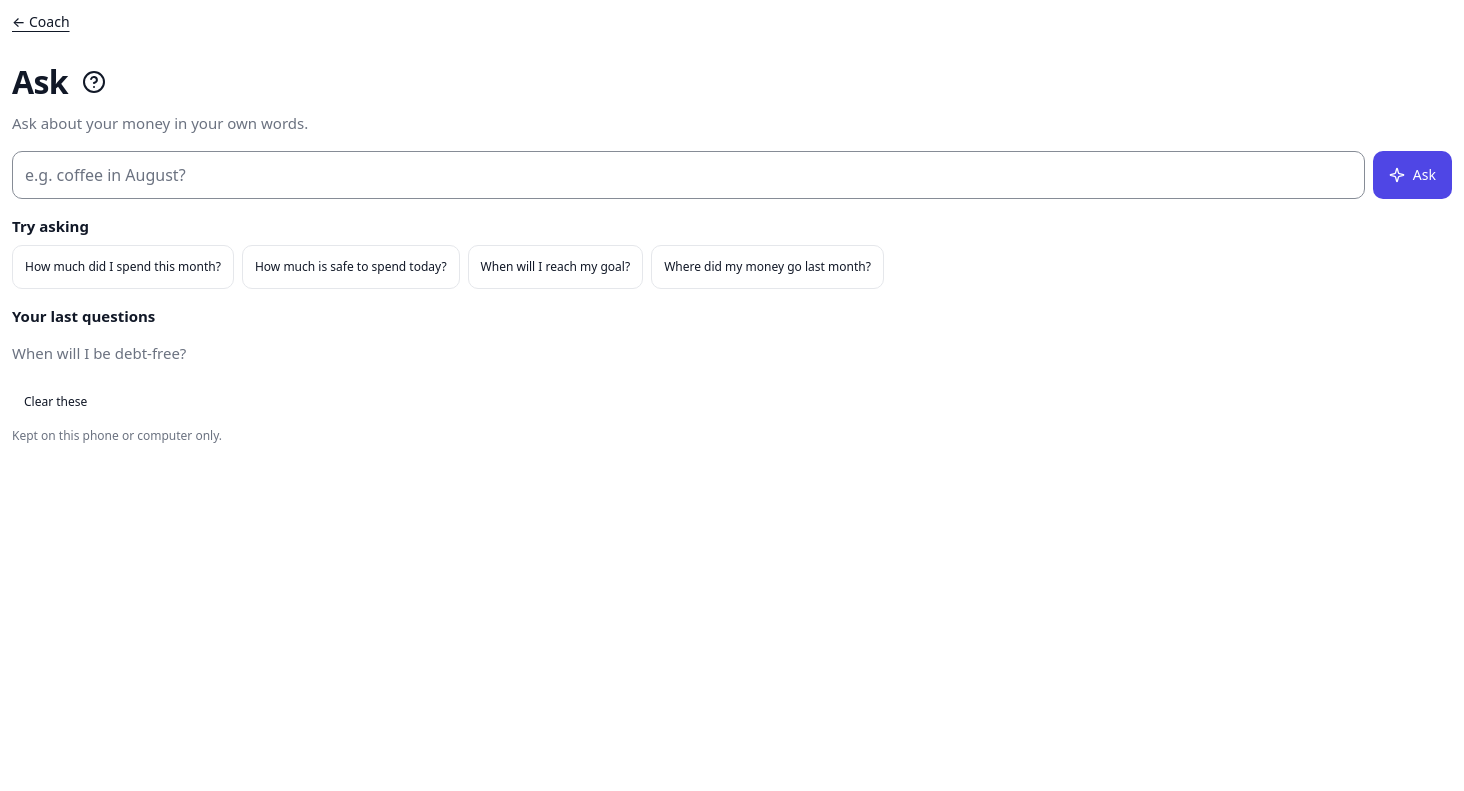
Test case: Ask fails soft › says the forecast needs a one-time update when its reads are missing, and still answers the rest
Click the button "How much is safe to spend today?" at (351, 267), box [242,245,460,289]
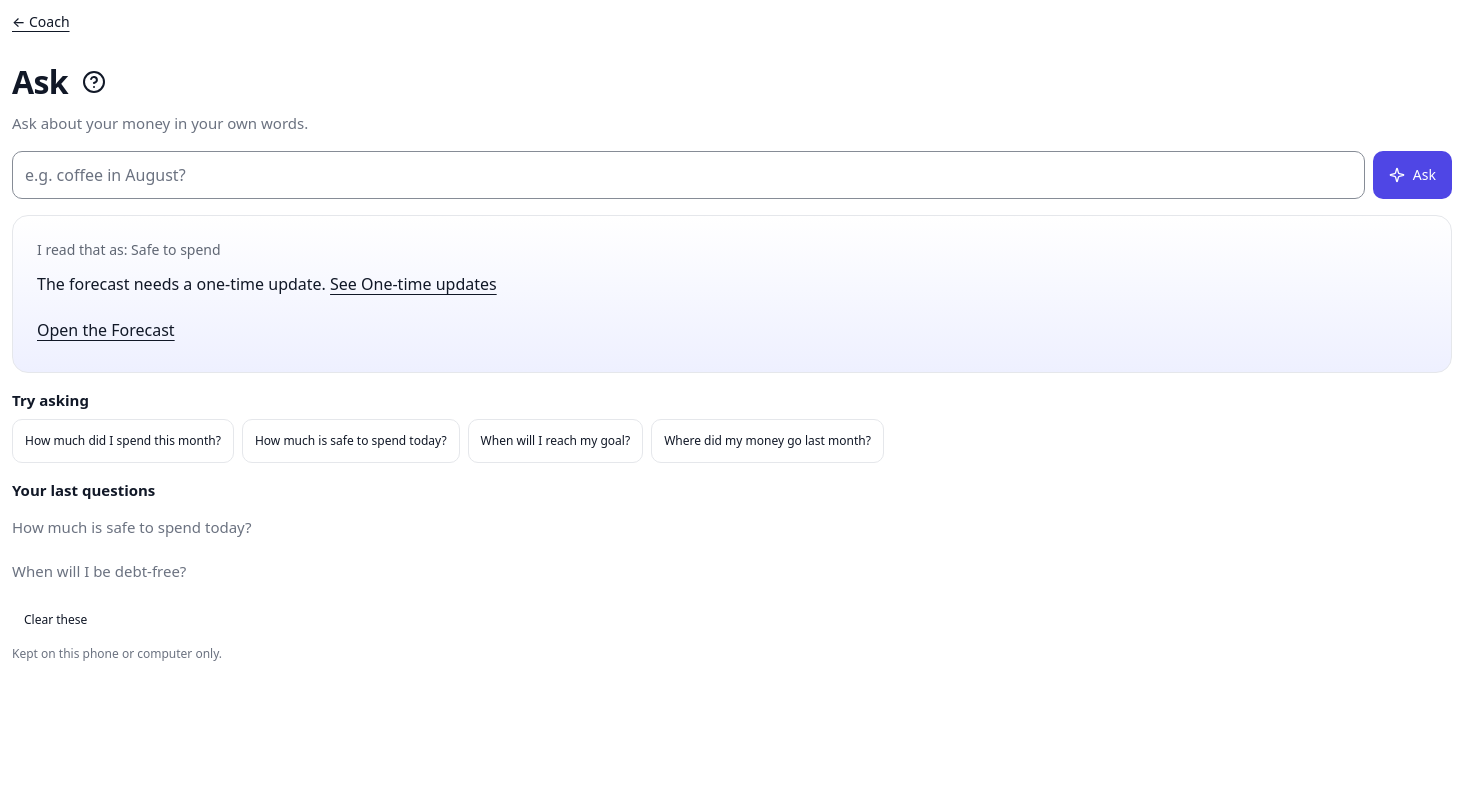
Result: the text "The forecast needs a one-time update. See One-time updates" is shown at [37,272,497,294]
Type "How much did I spend on dining out in August?" into the field with placeholder "e.g. coffee in August?" at (688, 174), box [12,150,1365,198]
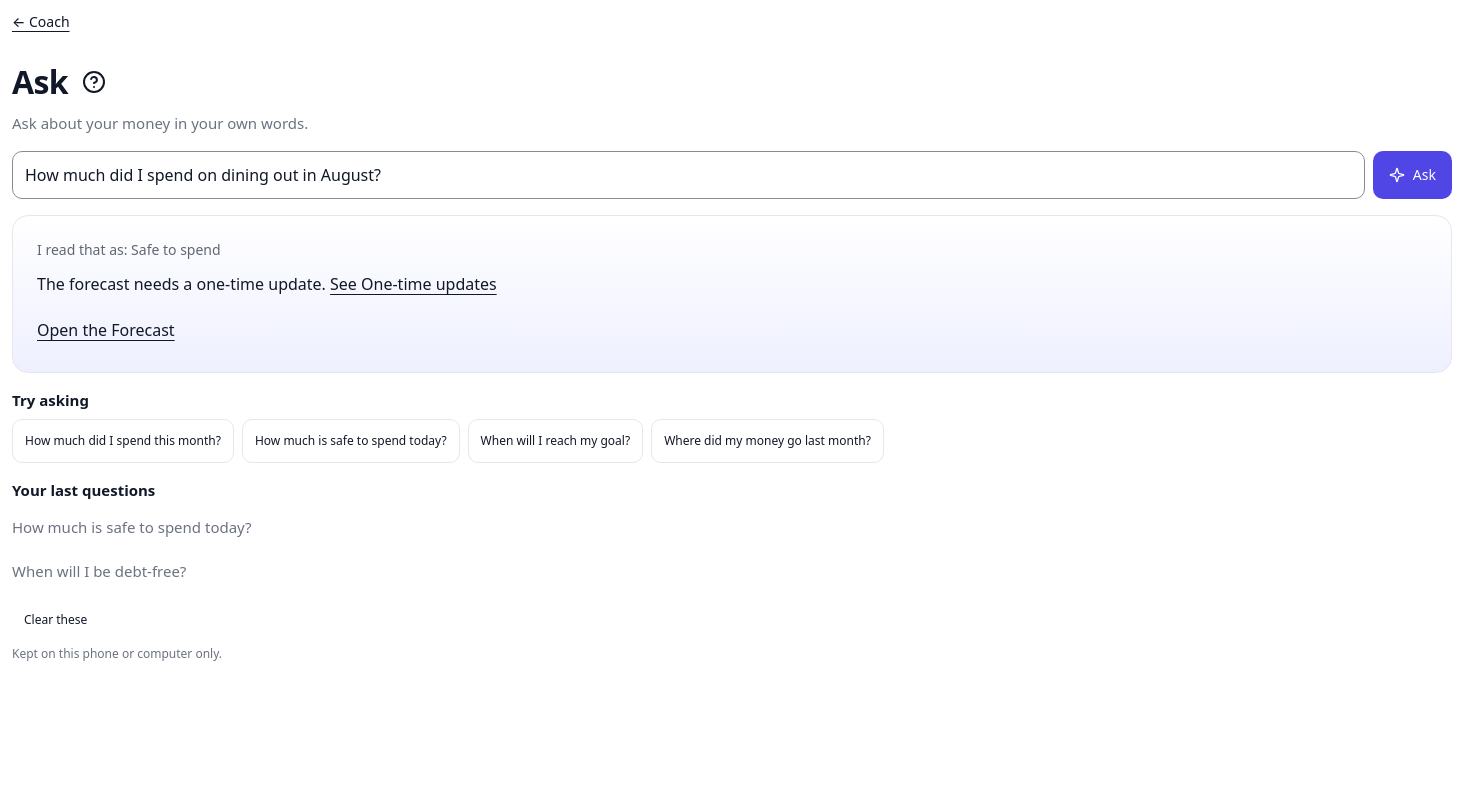
Click the button "Ask" at (1412, 174), box [1373,150,1452,198]
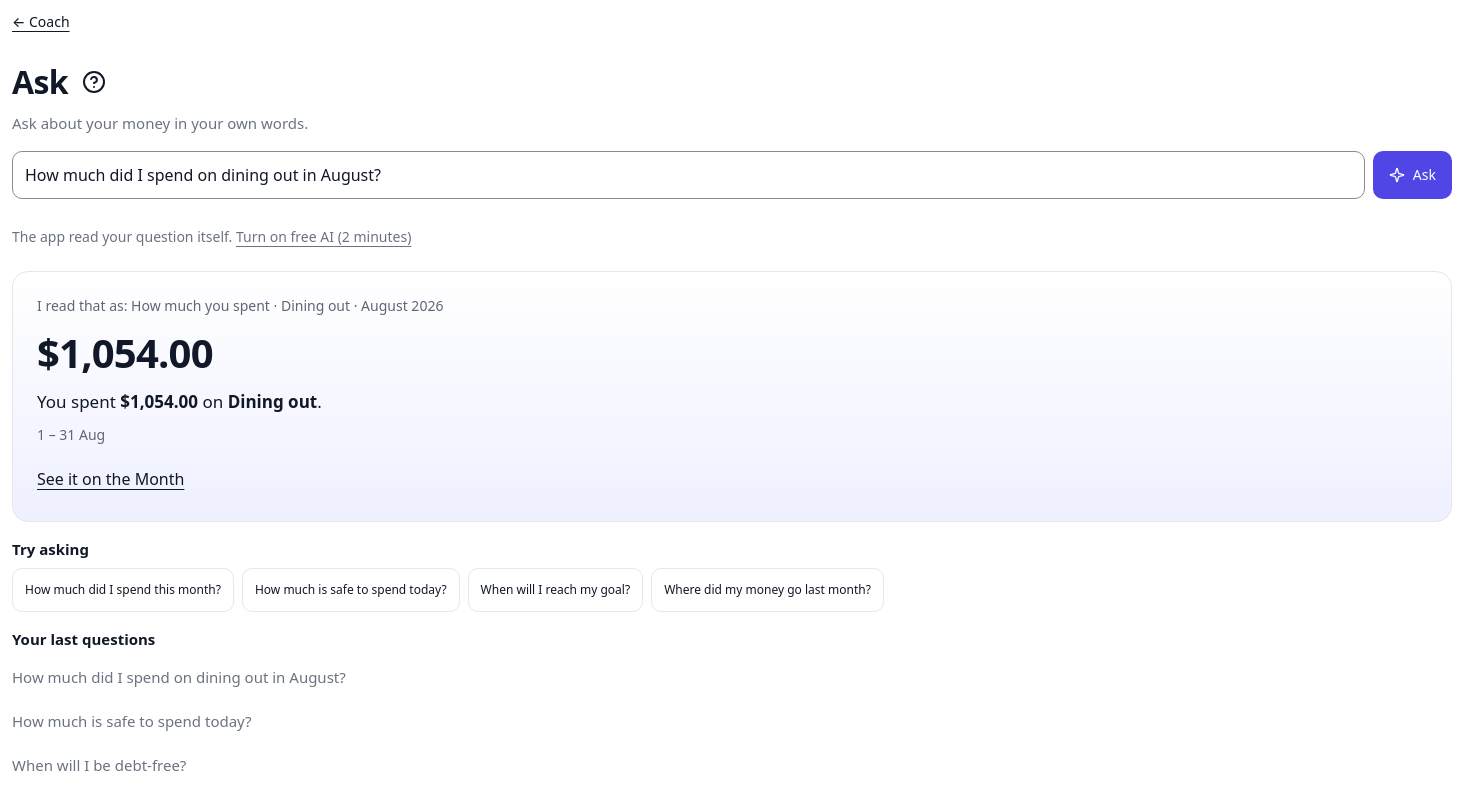
Result: the element showing "You spent $1,054.00 on Dining out." is shown at [37,390,322,412]
